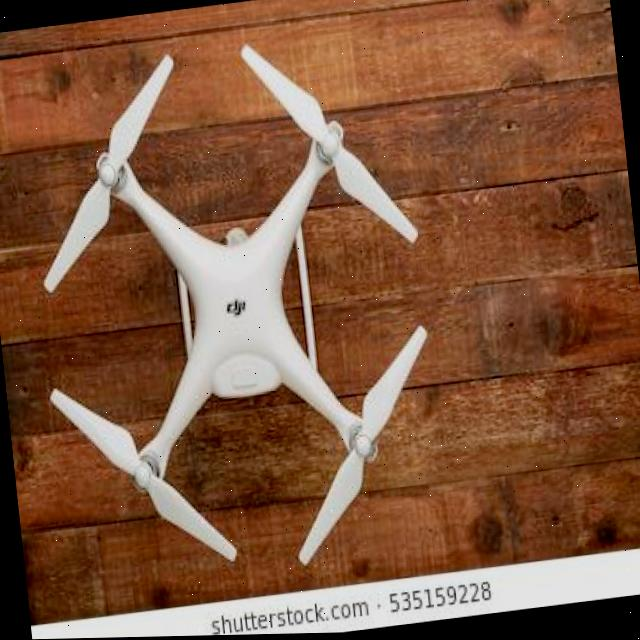drone: (0, 14, 476, 605)
